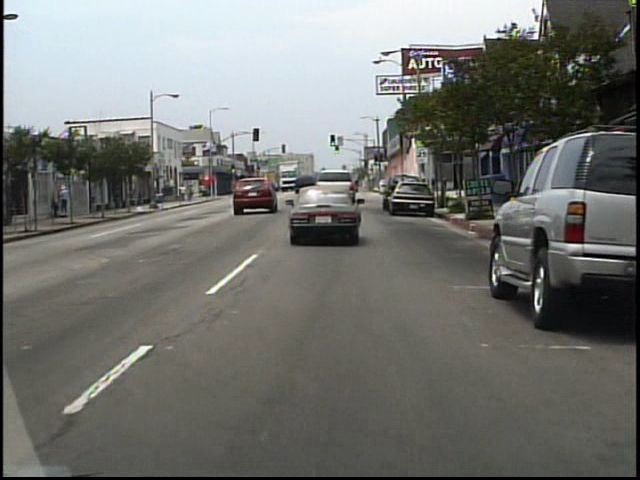person: (60, 183, 72, 217), (181, 184, 188, 202), (189, 183, 194, 201)
